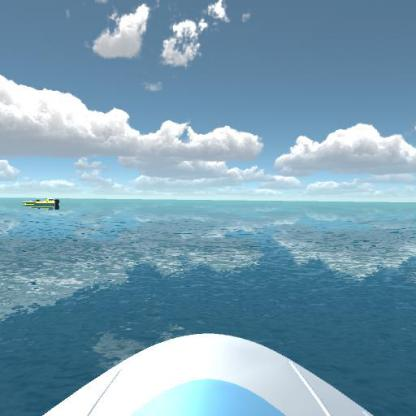usv2: (20, 192, 62, 211)
